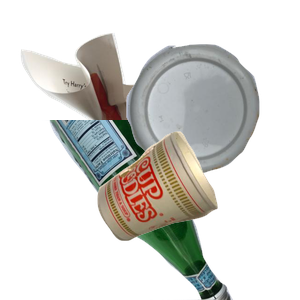glass: (37, 120, 262, 300)
paper: (18, 30, 213, 210)
plastic: (124, 42, 300, 210)
trash: (95, 129, 300, 300)
